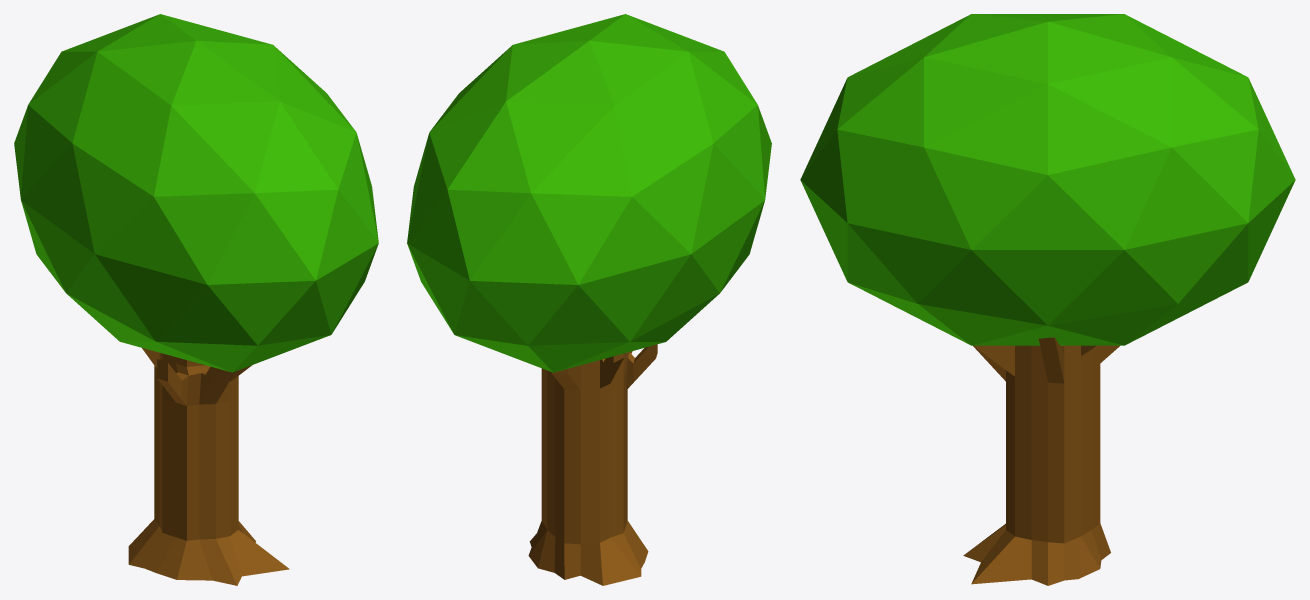
Rendered from boom 1.fbx.
3 renders of one model, left to right at view 1: azimuth 30°, elevation 25°; view 2: azimuth 150°, elevation 25°; view 3: azimuth 270°, elevation 25°, orthographic. The views are drawn at different scales.
Parts seen in each view (by area): view 1: Icosphere, Cube; view 2: Icosphere, Cube; view 3: Icosphere, Cube.
Part boxes in pixels (x1,y1,x2,y2): Icosphere: (14,14,378,372); Cube: (128,348,289,585); Icosphere: (407,14,771,372); Cube: (528,344,657,585); Icosphere: (800,14,1295,345); Cube: (963,337,1119,585).
Size of the model in its own units: 8704 by 15454 by 12993.
